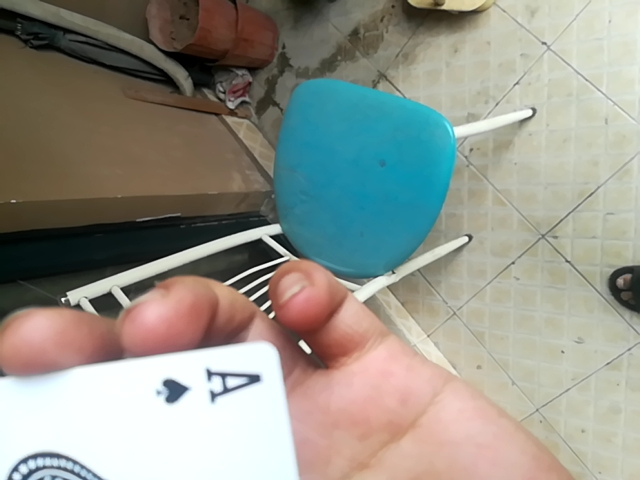ht a: (0, 342, 303, 480)
